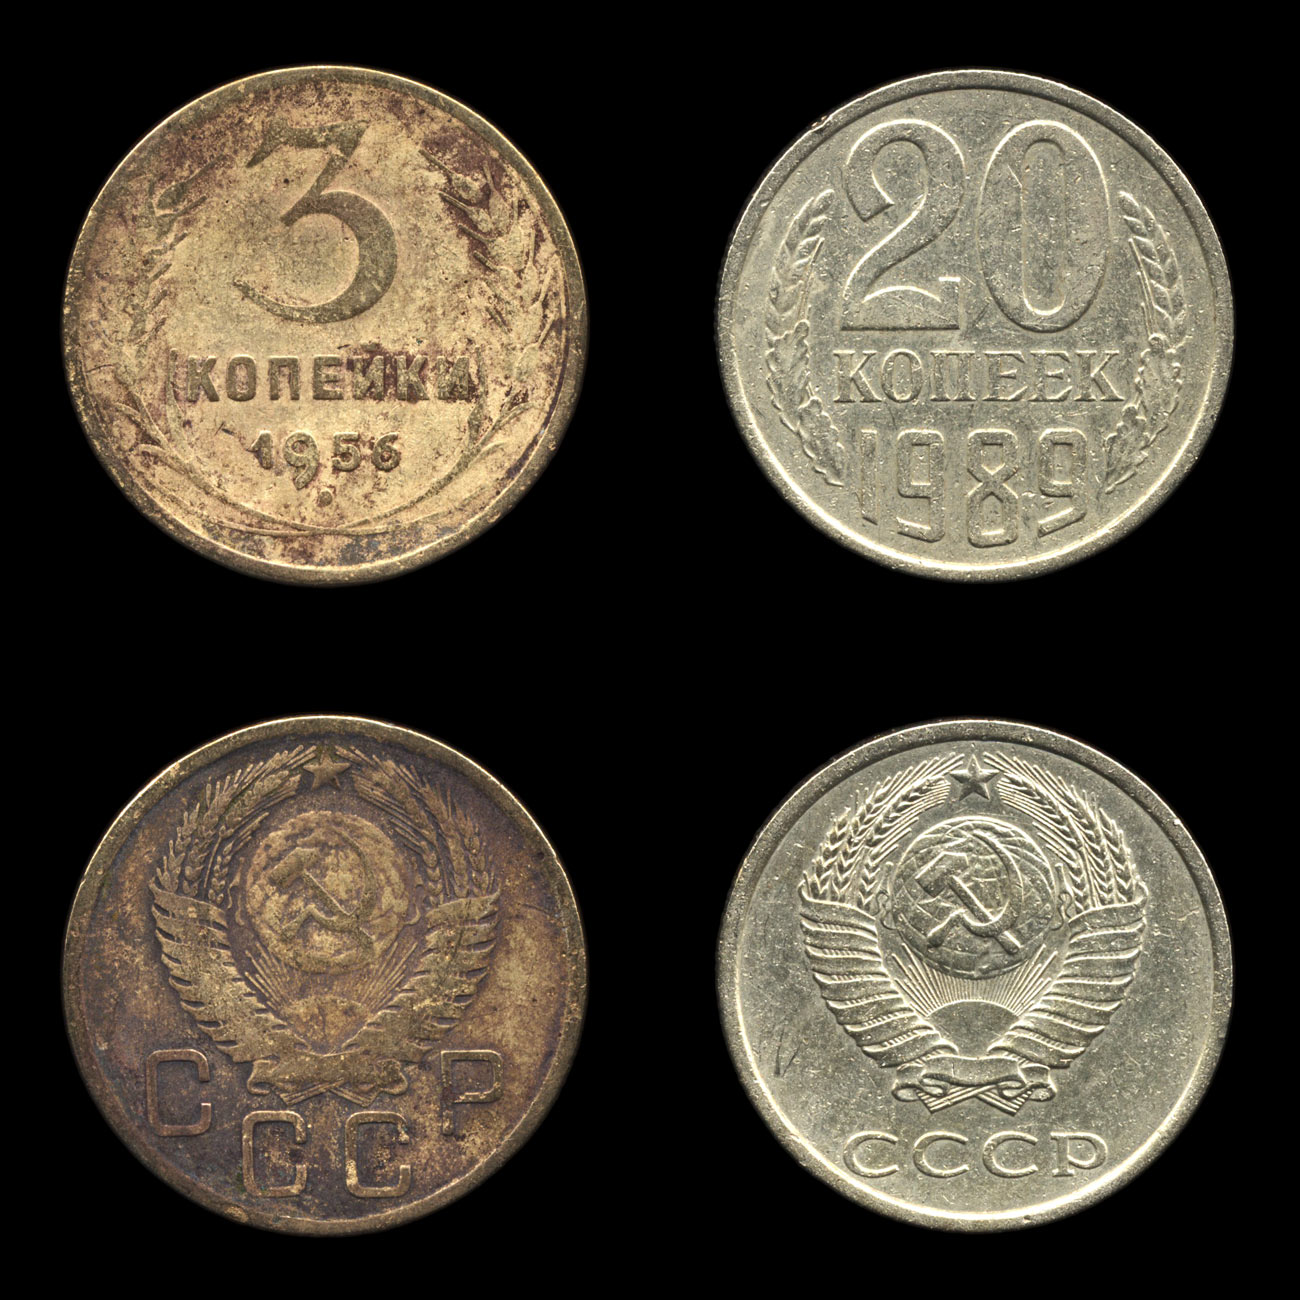coin: (54, 55, 598, 588), (68, 693, 585, 1242), (714, 63, 1248, 593), (712, 717, 1235, 1246)
